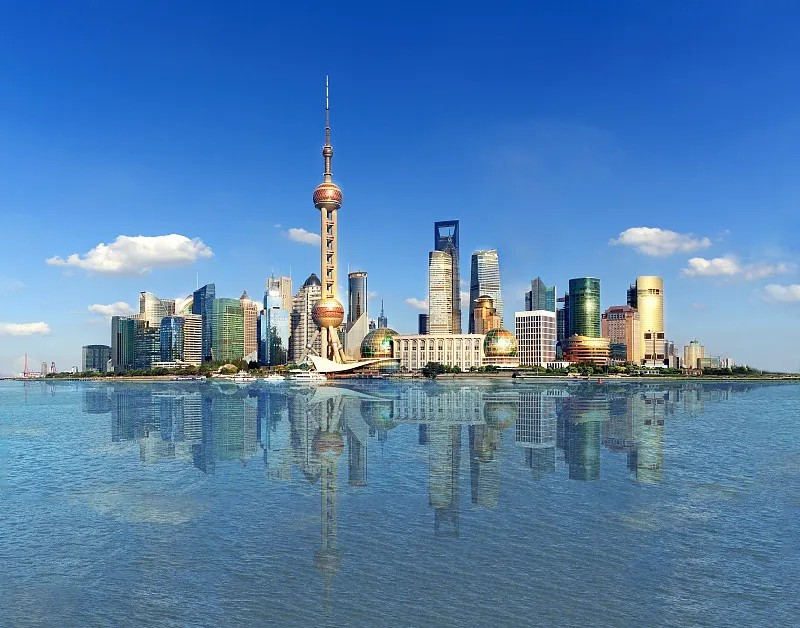Oriental: (299, 75, 346, 362)
